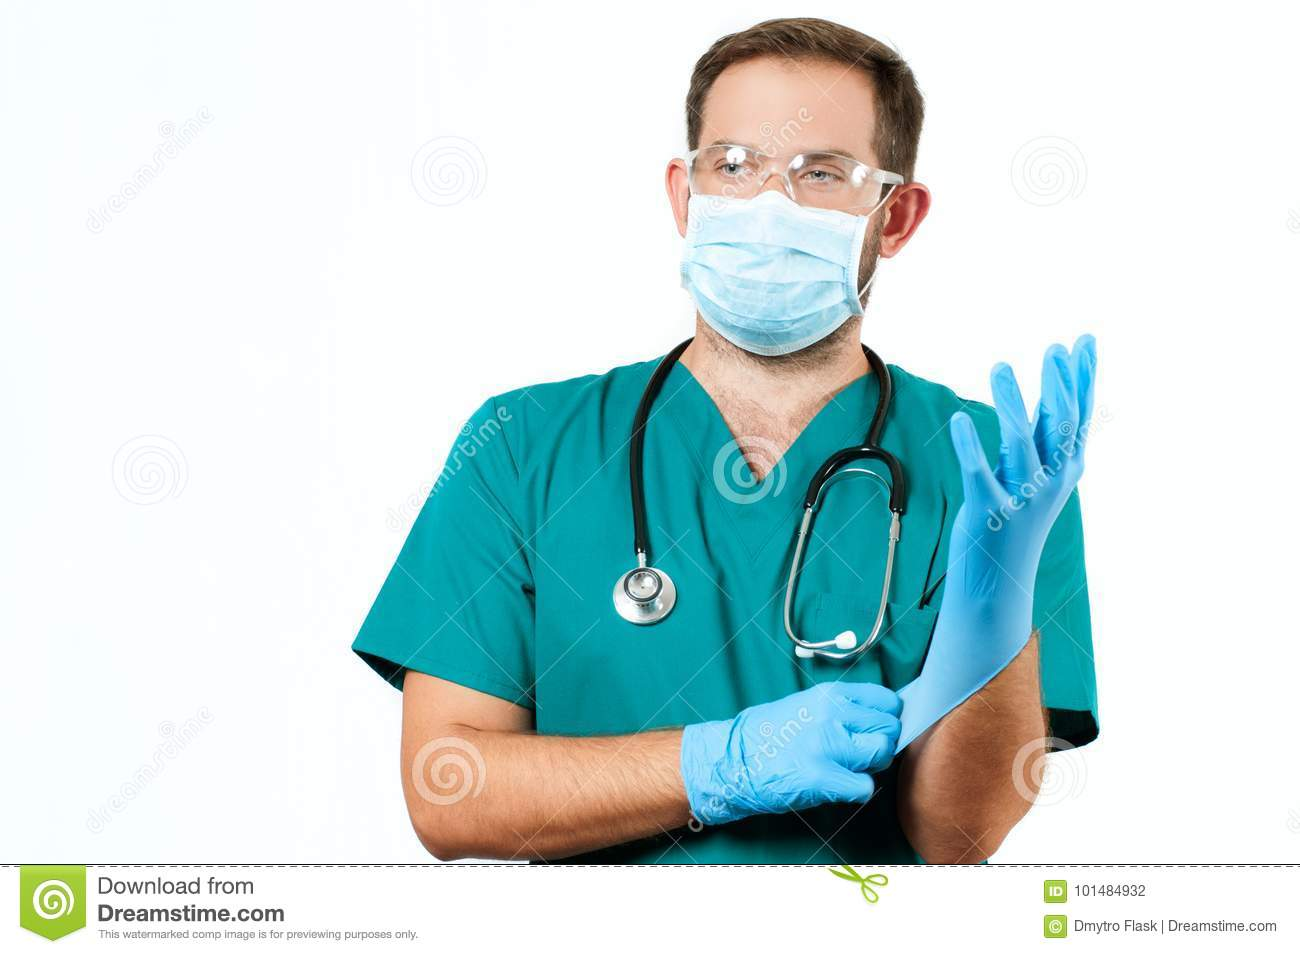mask: (678, 199, 885, 343)
